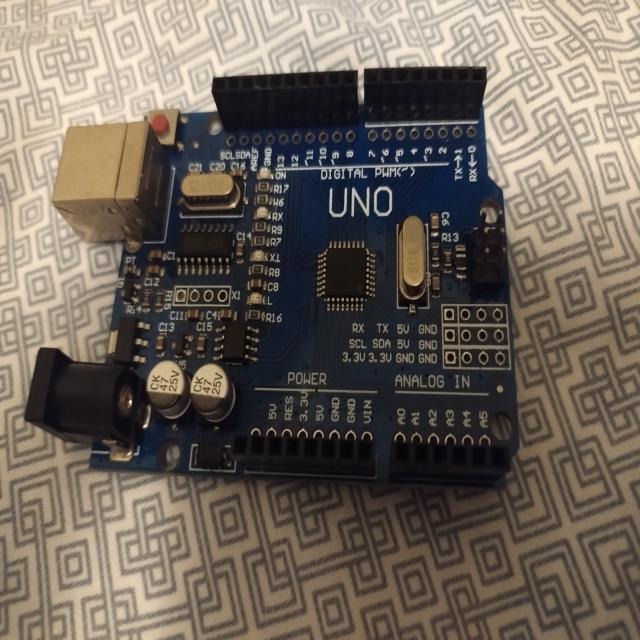arduino: (22, 61, 527, 498)
